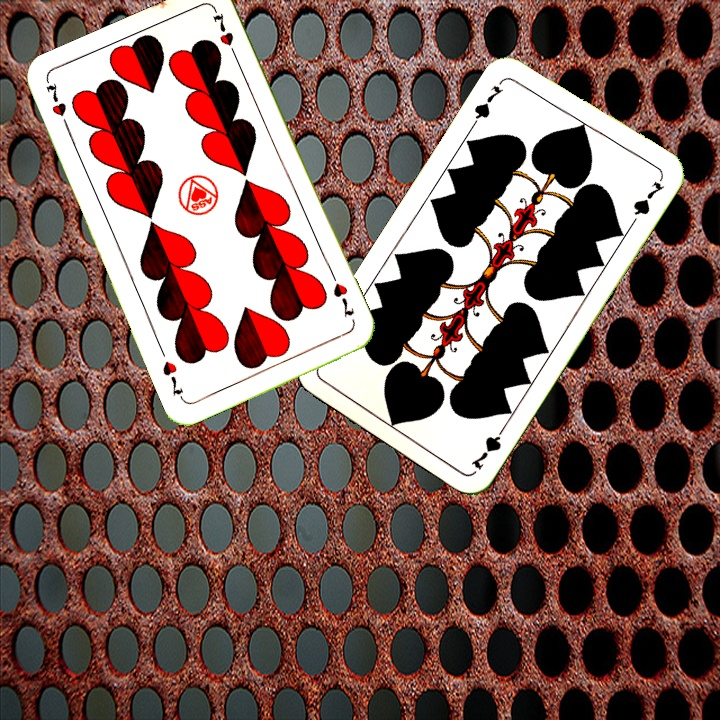G7: (466, 420, 510, 472), (469, 81, 506, 127)
H7: (41, 78, 72, 134), (327, 270, 357, 321)
